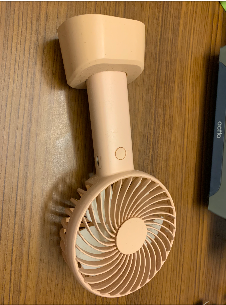object_name: (72, 22, 160, 283)
